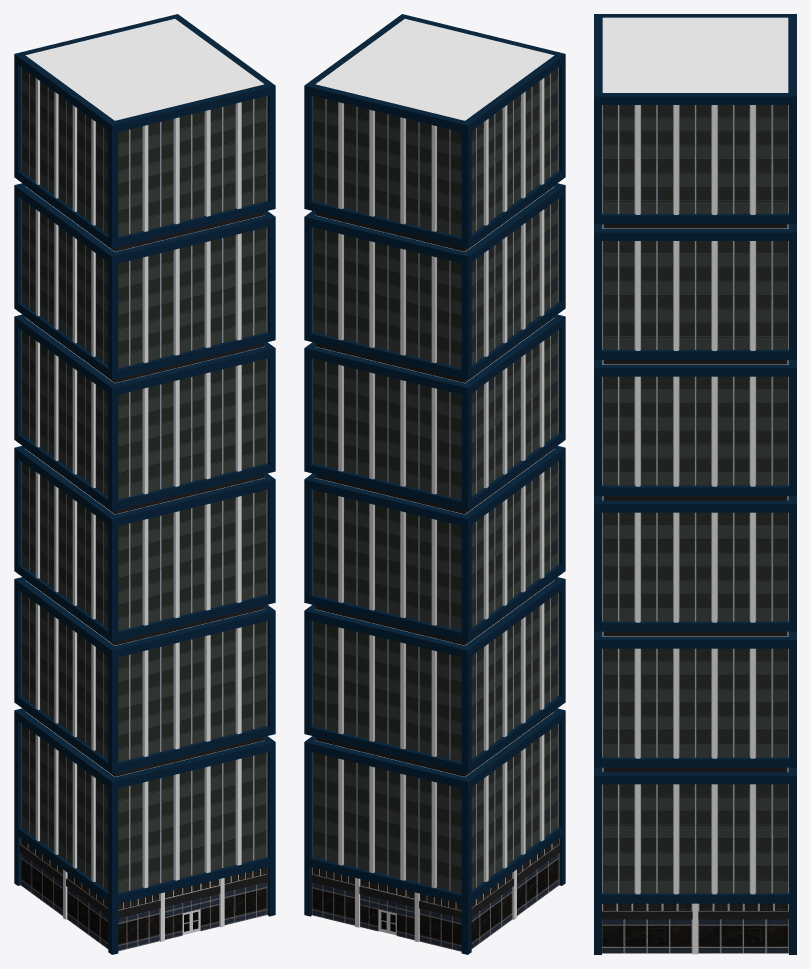
The picture shows the model from 3 angles, left to right: view 1: azimuth 30°, elevation 25°; view 2: azimuth 150°, elevation 25°; view 3: azimuth 270°, elevation 25°; orthographic projection. The views are drawn at different scales.
Visible parts, largest first — view 1: Building; view 2: Building; view 3: Building.
Part boxes in pixels (x1,y1,x2,y2): Building: (14, 14, 275, 954); Building: (304, 14, 565, 954); Building: (594, 14, 796, 954).
Size of what is drawn, in the model's own units: 19.21 by 93 by 19.9.
